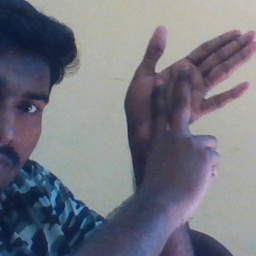N: (121, 22, 256, 194)
